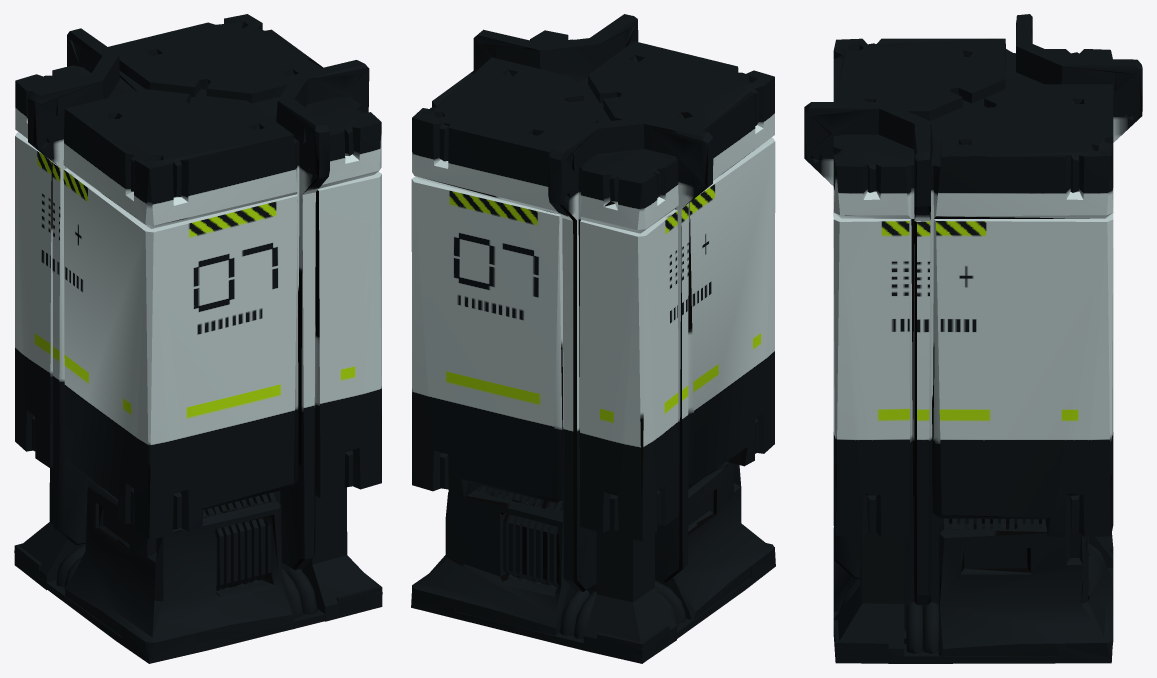
File: castle.glb
The picture shows the model from 3 angles, left to right: view 1: azimuth 30°, elevation 25°; view 2: azimuth 150°, elevation 25°; view 3: azimuth 270°, elevation 25°; orthographic projection. The views are drawn at different scales.
Parts seen in each view (by area): view 1: castle; view 2: castle; view 3: castle.
Boxes of the visible parts, x1,y1,x2,y2 form: castle: [14, 14, 382, 663]; castle: [411, 14, 775, 663]; castle: [804, 14, 1142, 663].
Bounding box in the file's own units: 60.62 × 103 × 60.51.
Materials: 1 (1 with a texture image).
